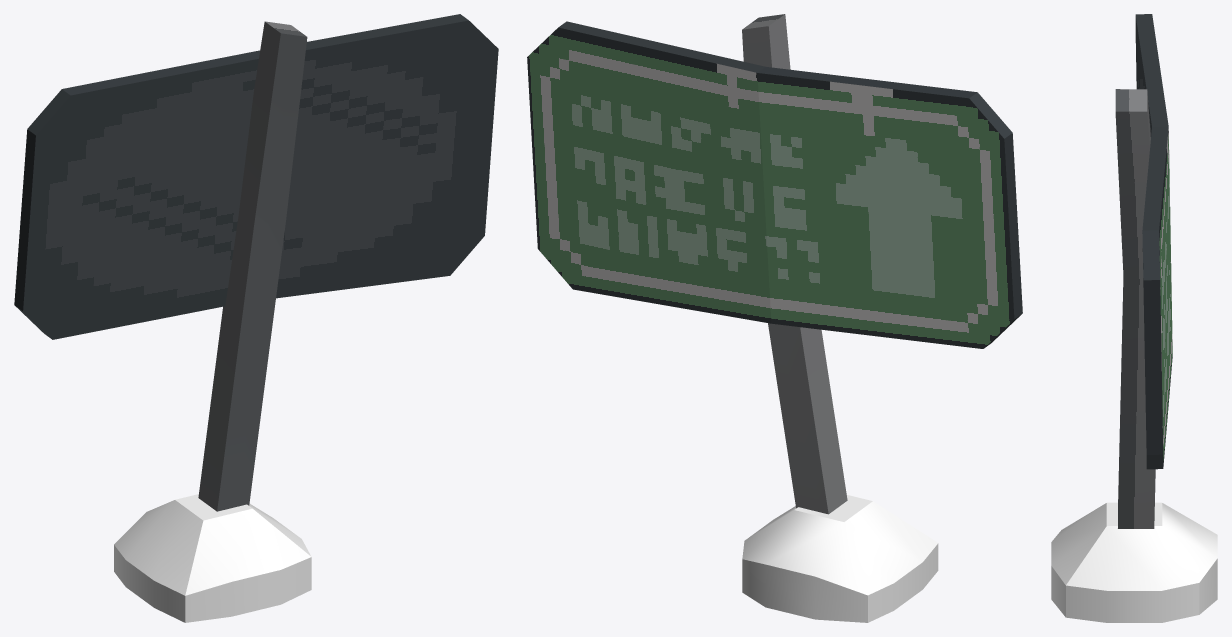
Rendered from sign4.glb.
The picture shows the model from 3 angles, left to right: view 1: azimuth 30°, elevation 25°; view 2: azimuth 150°, elevation 25°; view 3: azimuth 270°, elevation 25°; orthographic projection. The views are drawn at different scales.
Parts seen in each view (by area): view 1: Cube.007, Cube.008; view 2: Cube.007, Cube.008; view 3: Cube.008, Cube.007.
Boxes of the visible parts, x1,y1,x2,y2 form: Cube.007: [14, 14, 498, 339]; Cube.008: [114, 21, 311, 622]; Cube.007: [527, 21, 1022, 348]; Cube.008: [742, 14, 938, 622]; Cube.008: [1051, 89, 1217, 622]; Cube.007: [1135, 14, 1172, 469].
Bounding box in the file's own units: 89.07 × 95.94 × 27.49.
1 material, 1 textured.
